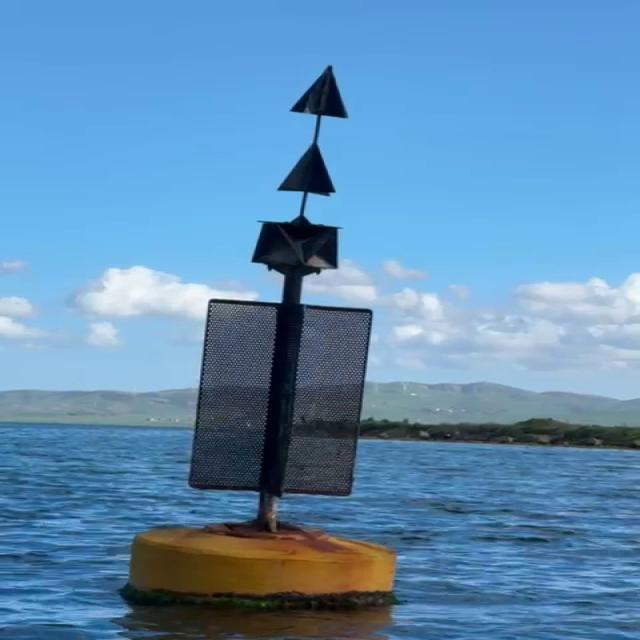marque: (124, 61, 402, 606)
